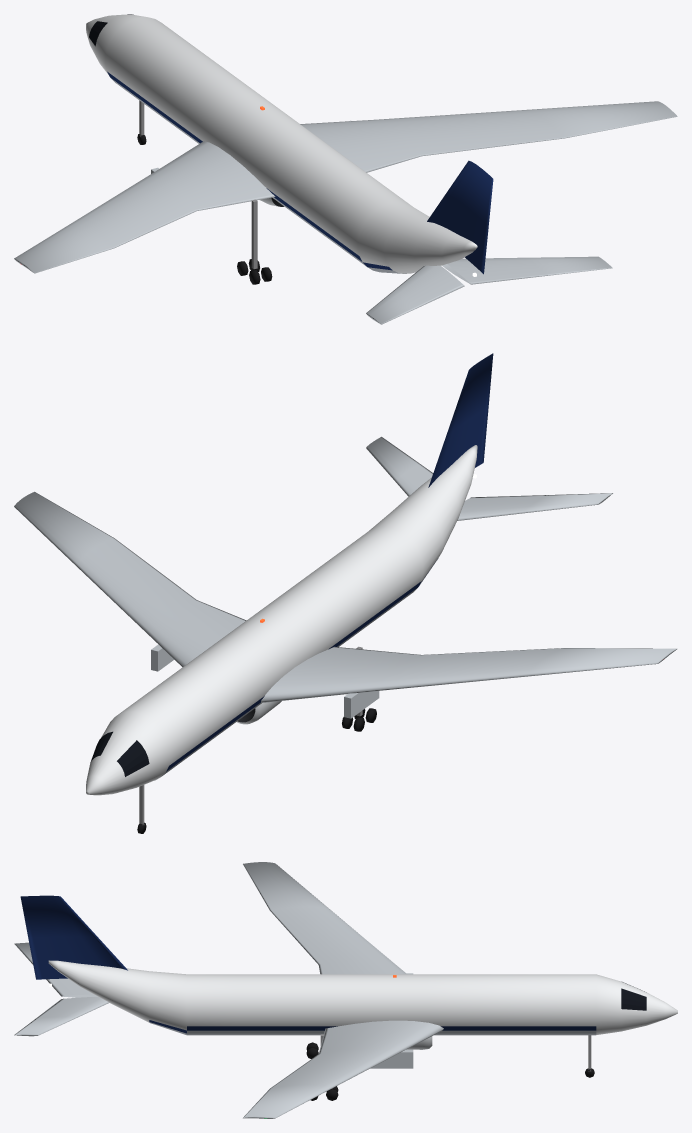
File: fleet_heavy2_lod0.glb
The picture shows the model from 3 angles, top to bottom: view 1: azimuth 30°, elevation 25°; view 2: azimuth 150°, elevation 25°; view 3: azimuth 270°, elevation 25°; orthographic projection. The views are drawn at different scales.
Visible parts, largest first — view 1: fleet_heavy2_lod0_wing, fleet_heavy2_lod0_white, fleet_heavy2_lod0_blue, fleet_heavy2_lod0_metal, fleet_heavy2_lod0_tyre, fleet_heavy2_lod0_belly; view 2: fleet_heavy2_lod0_white, fleet_heavy2_lod0_wing, fleet_heavy2_lod0_blue, fleet_heavy2_lod0_glass; view 3: fleet_heavy2_lod0_white, fleet_heavy2_lod0_wing, fleet_heavy2_lod0_blue, fleet_heavy2_lod0_belly, fleet_heavy2_lod0_glass, fleet_heavy2_lod0_tyre.
Part boxes in pixels (x1,y1,x2,y2): fleet_heavy2_lod0_wing: (14, 101, 677, 324); fleet_heavy2_lod0_white: (86, 14, 477, 273); fleet_heavy2_lod0_blue: (107, 71, 493, 274); fleet_heavy2_lod0_metal: (139, 100, 257, 269); fleet_heavy2_lod0_tyre: (137, 134, 272, 284); fleet_heavy2_lod0_belly: (111, 78, 406, 273); fleet_heavy2_lod0_white: (86, 445, 477, 795); fleet_heavy2_lod0_wing: (14, 436, 677, 718); fleet_heavy2_lod0_blue: (166, 353, 493, 771); fleet_heavy2_lod0_glass: (90, 731, 149, 776); fleet_heavy2_lod0_white: (48, 960, 677, 1034); fleet_heavy2_lod0_wing: (14, 862, 443, 1118); fleet_heavy2_lod0_blue: (20, 895, 596, 1033); fleet_heavy2_lod0_belly: (149, 1022, 596, 1035); fleet_heavy2_lod0_glass: (621, 982, 646, 1010); fleet_heavy2_lod0_tyre: (306, 1042, 594, 1100).
Size of the model in its own units: 60.9 by 20.19 by 67.21.
